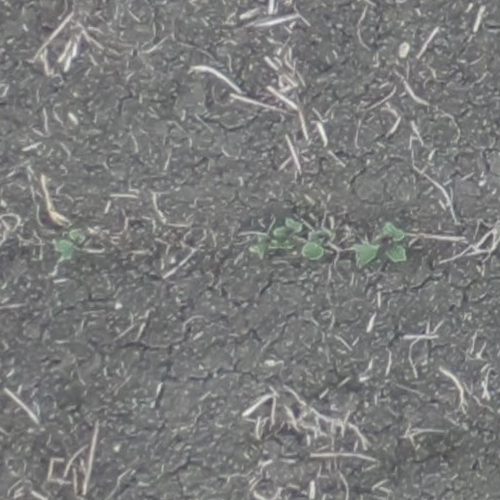plant: (255, 215, 331, 261), (353, 222, 407, 267), (54, 229, 85, 261)
